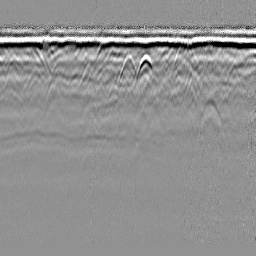cavity: (118, 52, 137, 84)
